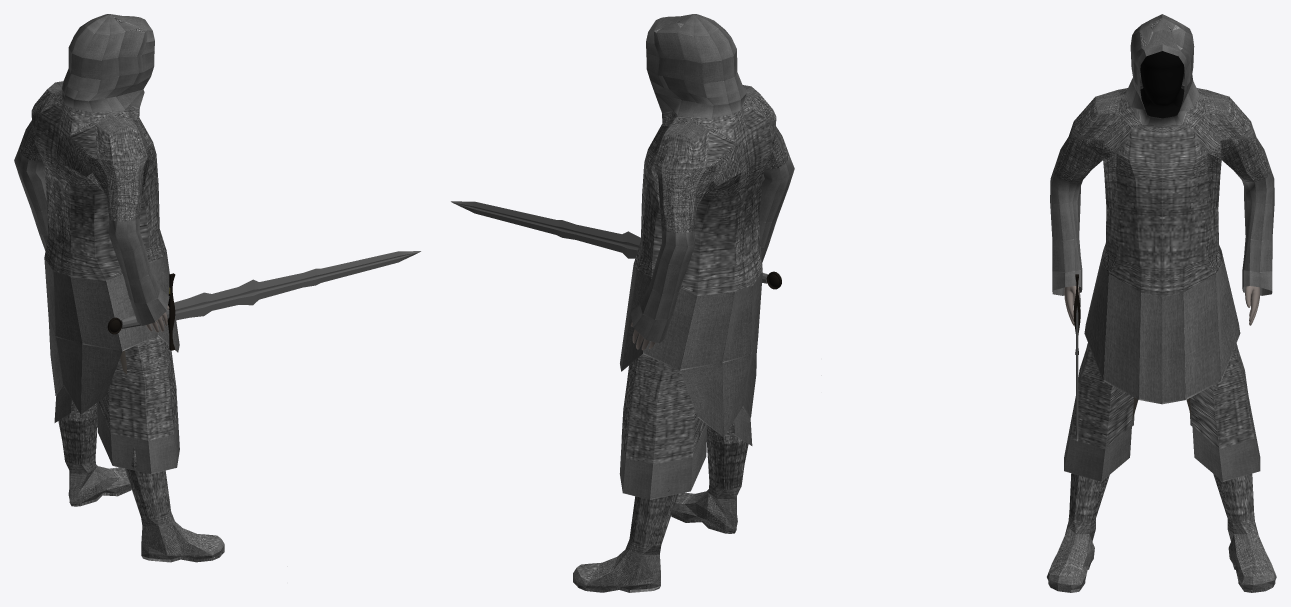
File: EnamyCharacter.fbx
The picture shows the model from 3 angles, left to right: view 1: azimuth 30°, elevation 25°; view 2: azimuth 150°, elevation 25°; view 3: azimuth 270°, elevation 25°; orthographic projection. The views are drawn at different scales.
Parts seen in each view (by area): view 1: pCube92, pCylinder9, Sword_2:pCylinder3, pCube90, pCube75; view 2: pCube92, pCylinder9, pCube75, pCube90, Sword_2:pCylinder3; view 3: pCube92, pCylinder9, pCube75, pCube90, guy_13:pCube17, Sword_2:pCylinder3.
Boxes of the visible parts, x1,y1,x2,y2 form: pCube92: (14, 14, 179, 414); pCylinder9: (54, 336, 179, 473); Sword_2:pCylinder3: (107, 251, 420, 350); pCube90: (125, 446, 224, 562); pCube75: (58, 399, 131, 506); pCube92: (620, 14, 794, 437); pCylinder9: (619, 354, 752, 499); pCube75: (573, 487, 678, 592); pCube90: (671, 420, 748, 533); Sword_2:pCylinder3: (451, 201, 781, 289); pCube92: (1050, 14, 1274, 404); pCylinder9: (1064, 343, 1260, 481); pCube75: (1213, 473, 1276, 592); pCube90: (1047, 473, 1109, 592); guy_13:pCube17: (1064, 51, 1259, 325); Sword_2:pCylinder3: (1073, 274, 1080, 441).
Size of what is drawn, in the model's own units: 7.35 by 11.04 by 7.84.
